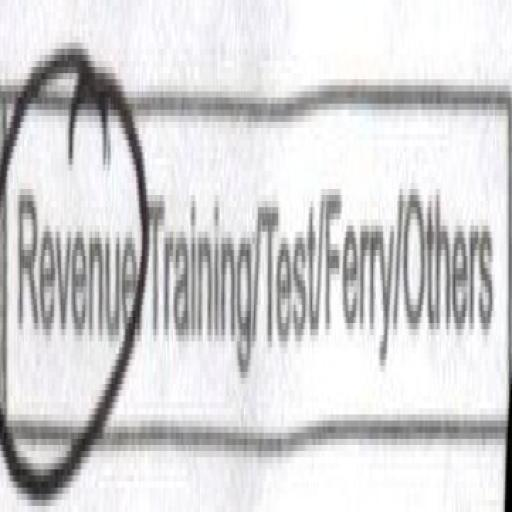check: (0, 25, 148, 512)
